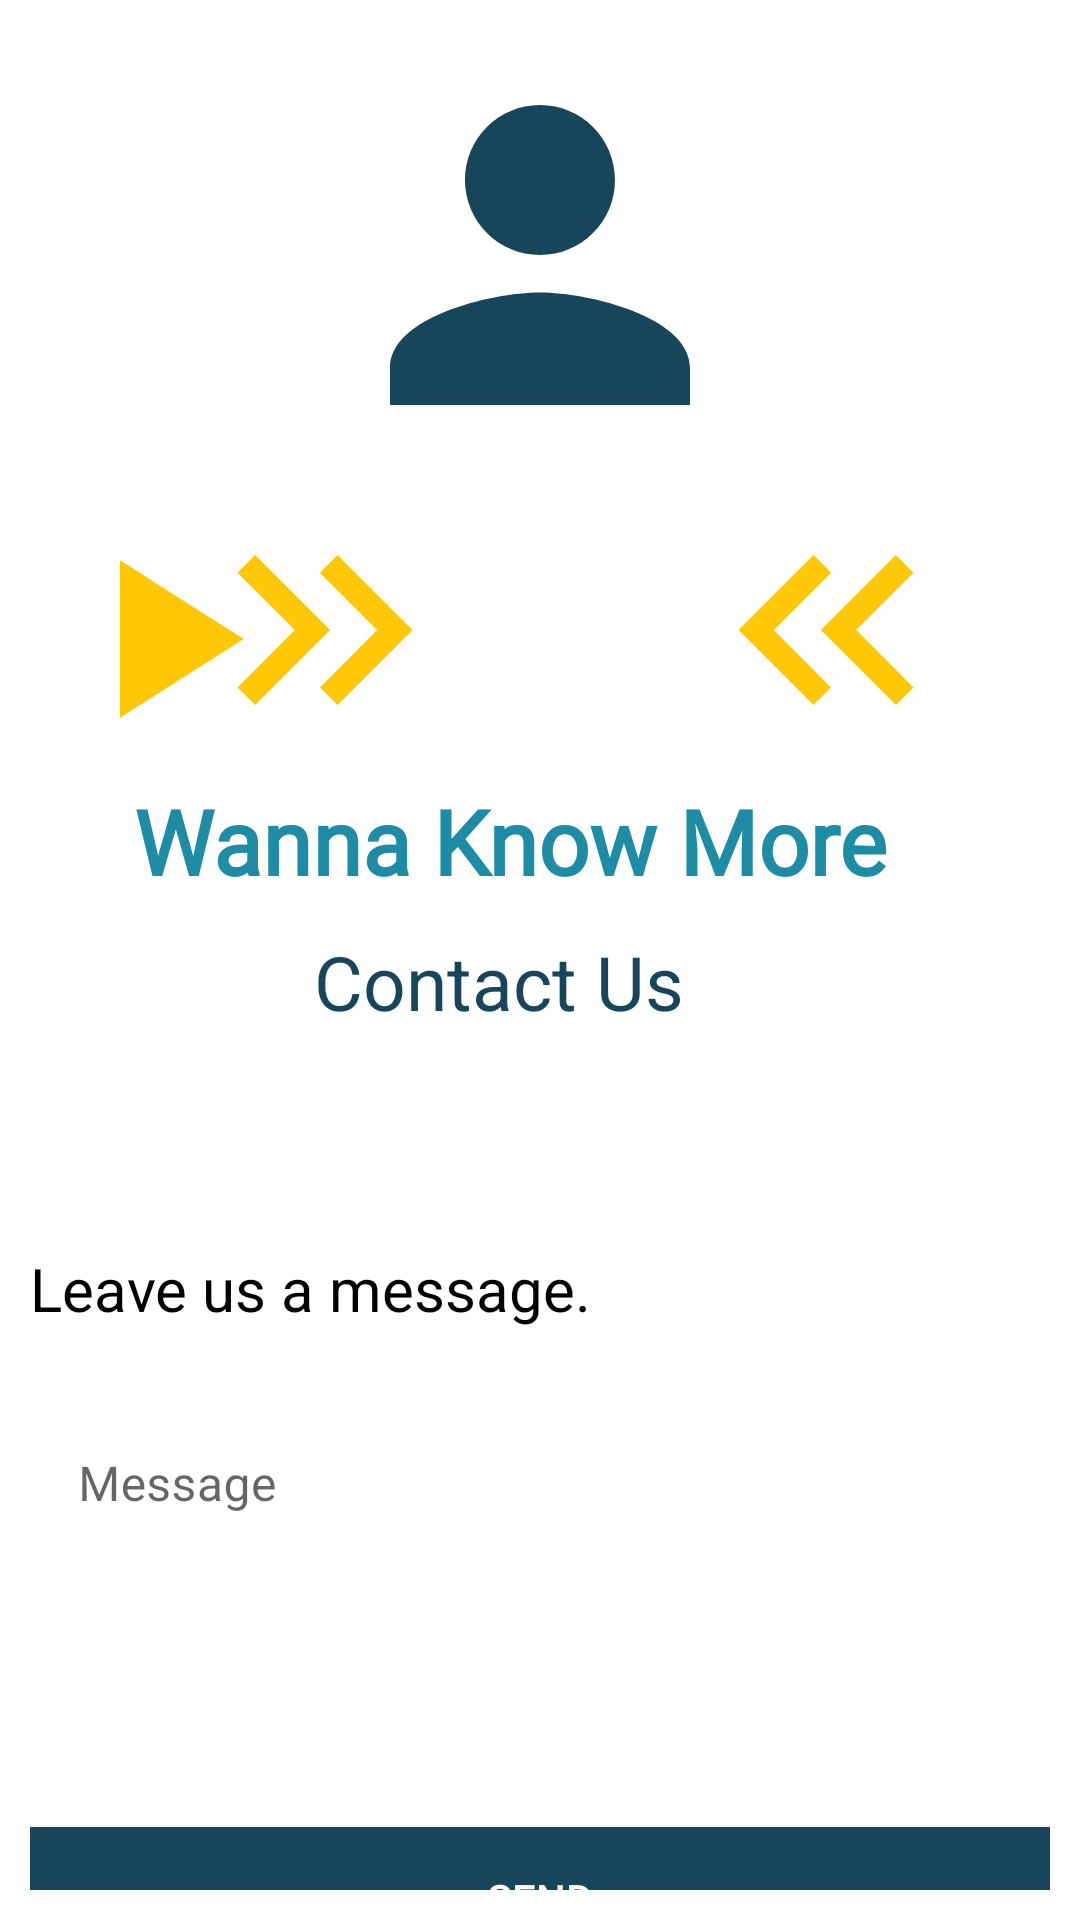

Locate icon controls on the screen. Image size 1080*1920, boxes as (x1, y1, x2, y2).
arrow left: (738, 555, 914, 705)
arrow right: (237, 555, 413, 705)
person: (390, 105, 690, 405)
play arrow: (120, 560, 244, 718)
